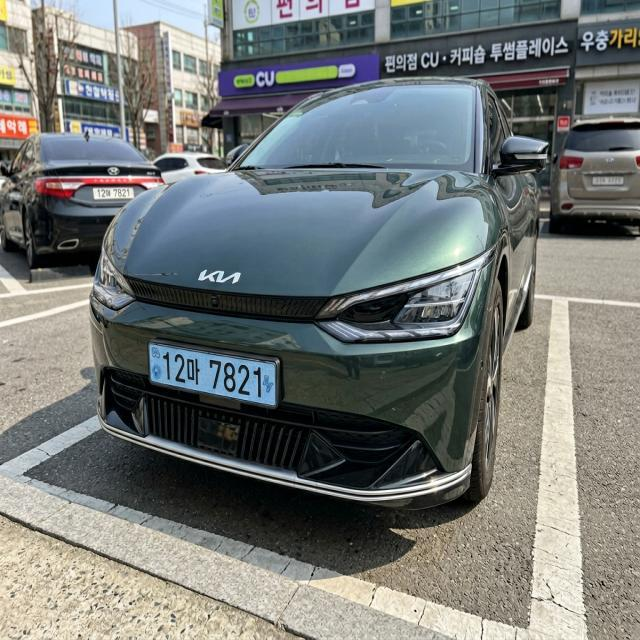car: (132, 331, 305, 417)
carev: (259, 358, 279, 407), (147, 339, 163, 389)
